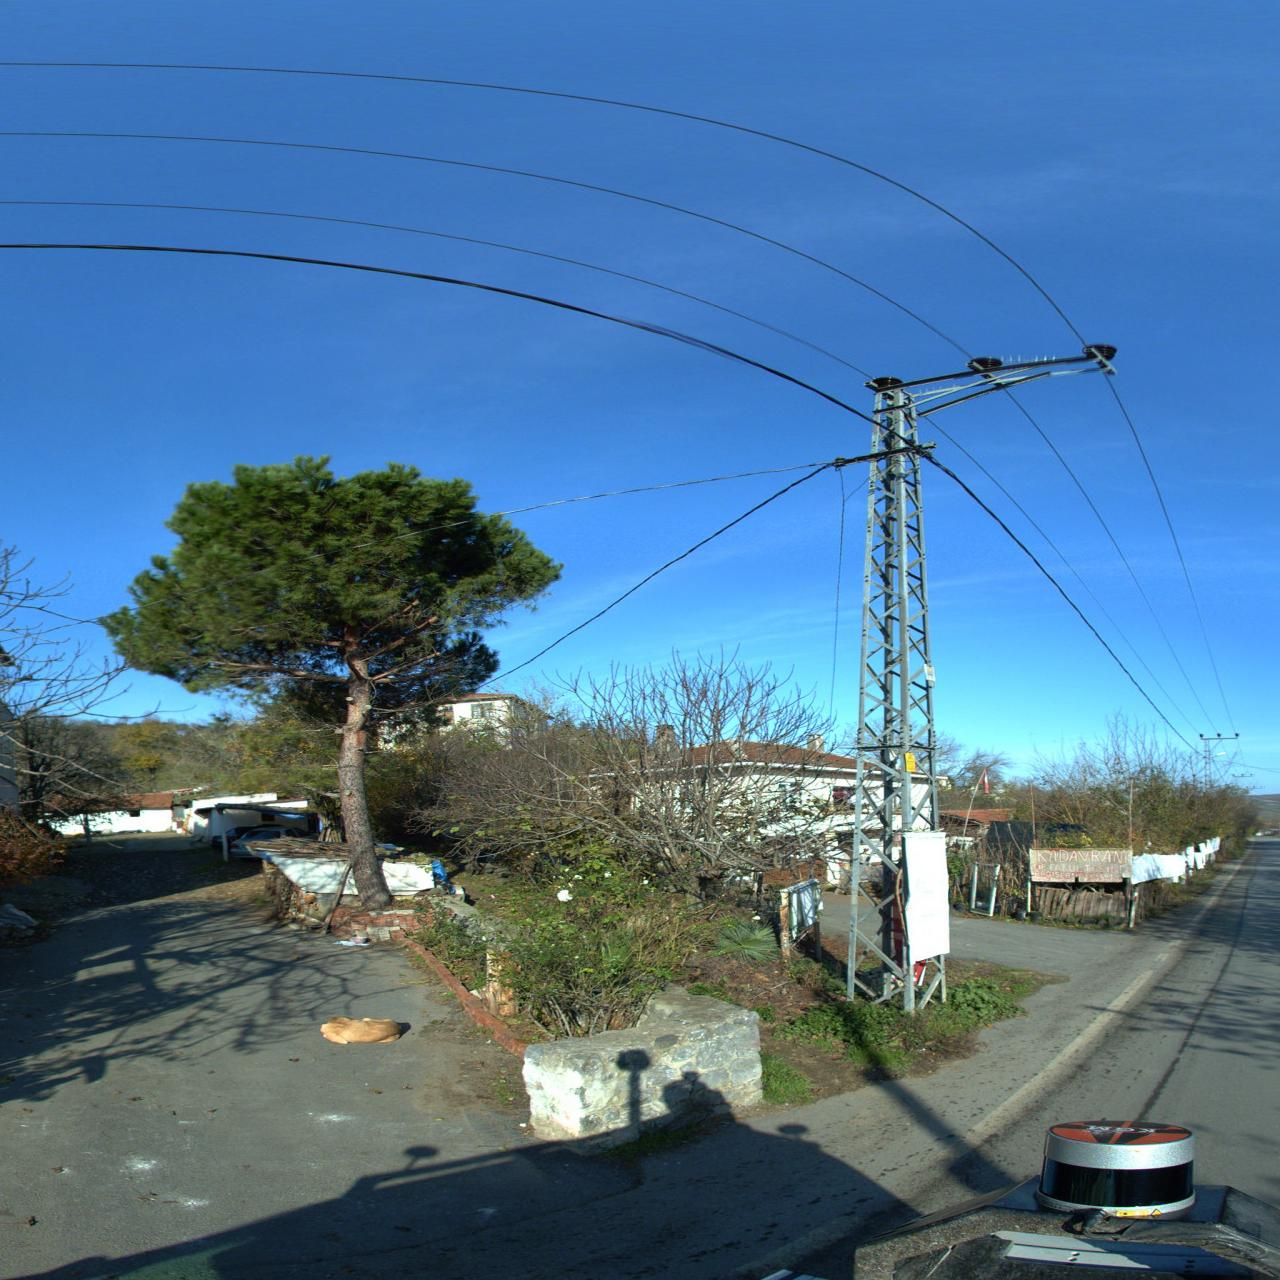Utility Pole Information Plate: (904, 751, 917, 774)
